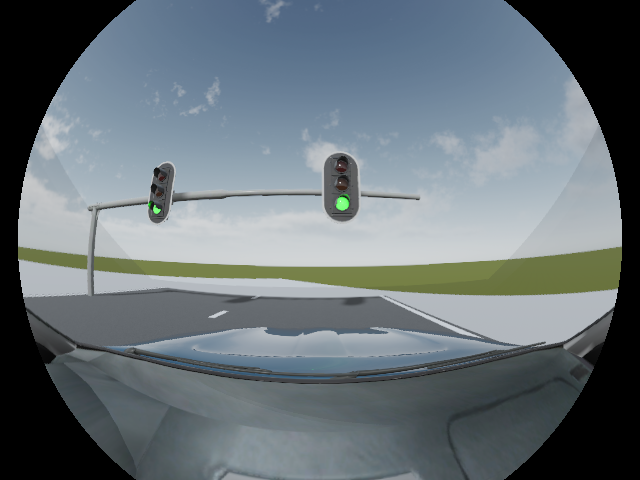Green Light: (325, 151, 359, 221)
